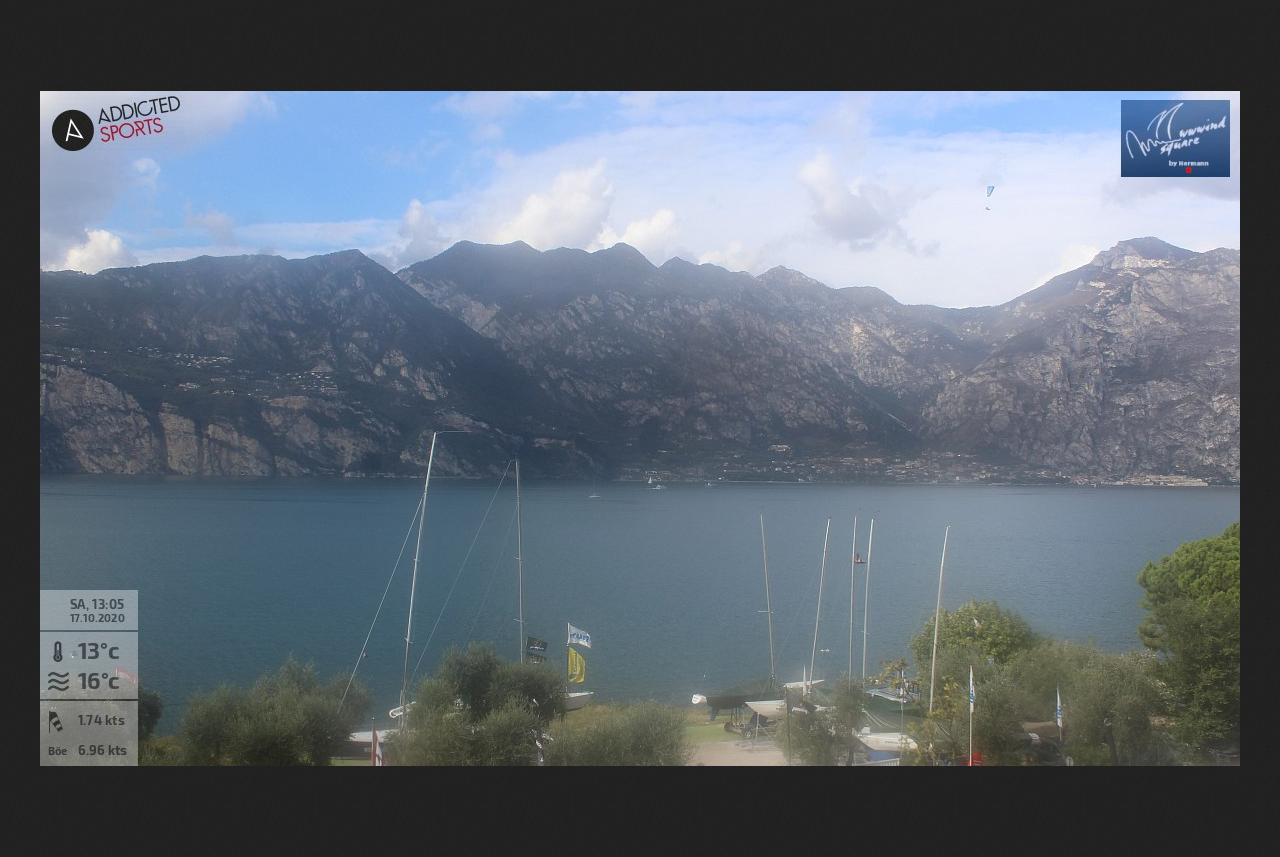yes: (562, 618, 594, 649), (565, 646, 589, 685)
